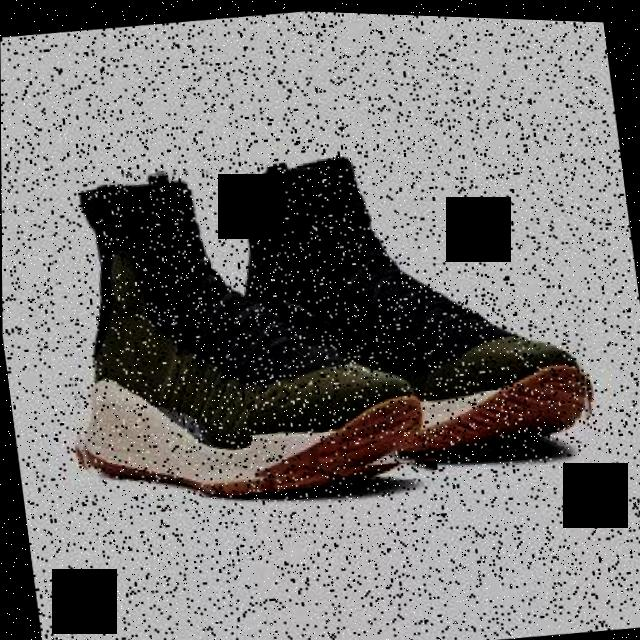shoe: (39, 136, 438, 516), (215, 124, 600, 485)
